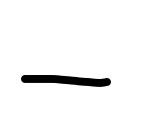minus: (22, 74, 110, 88)
